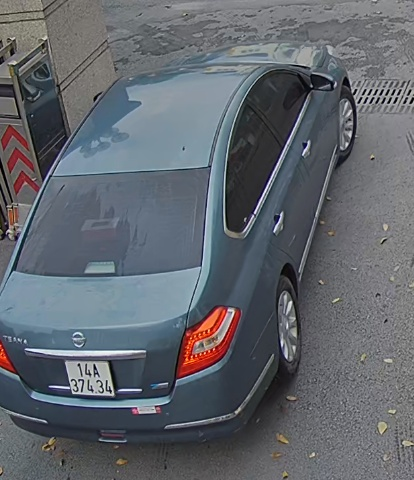vehicle plate: (60, 353, 118, 403)
